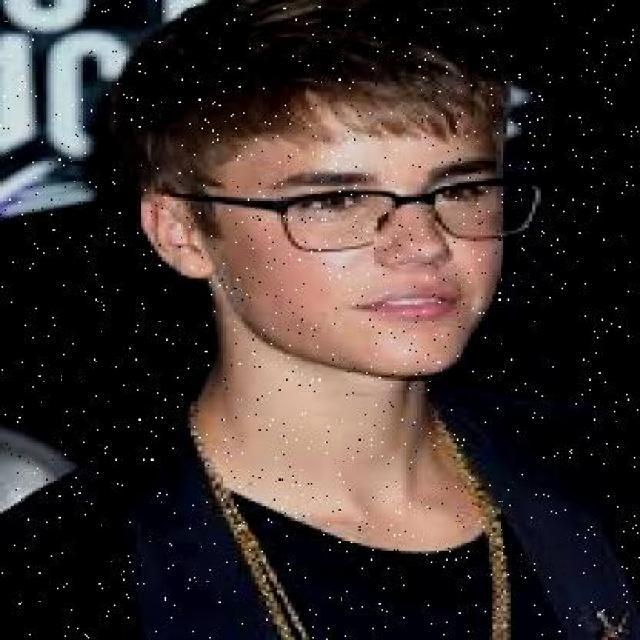glasses: (248, 173, 550, 254)
